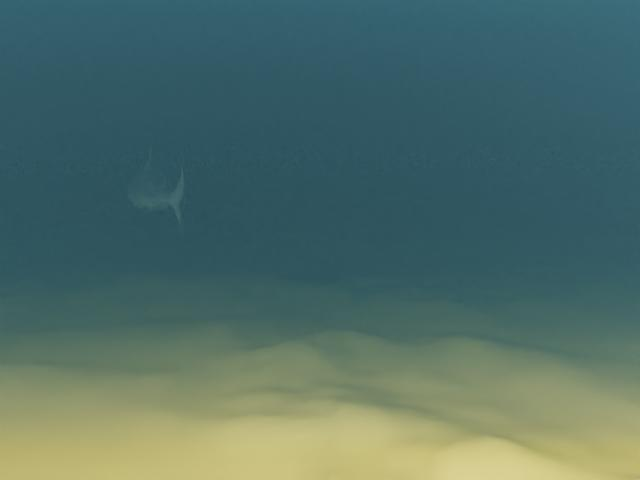Carribean Shark.001: (78, 139, 224, 233)
